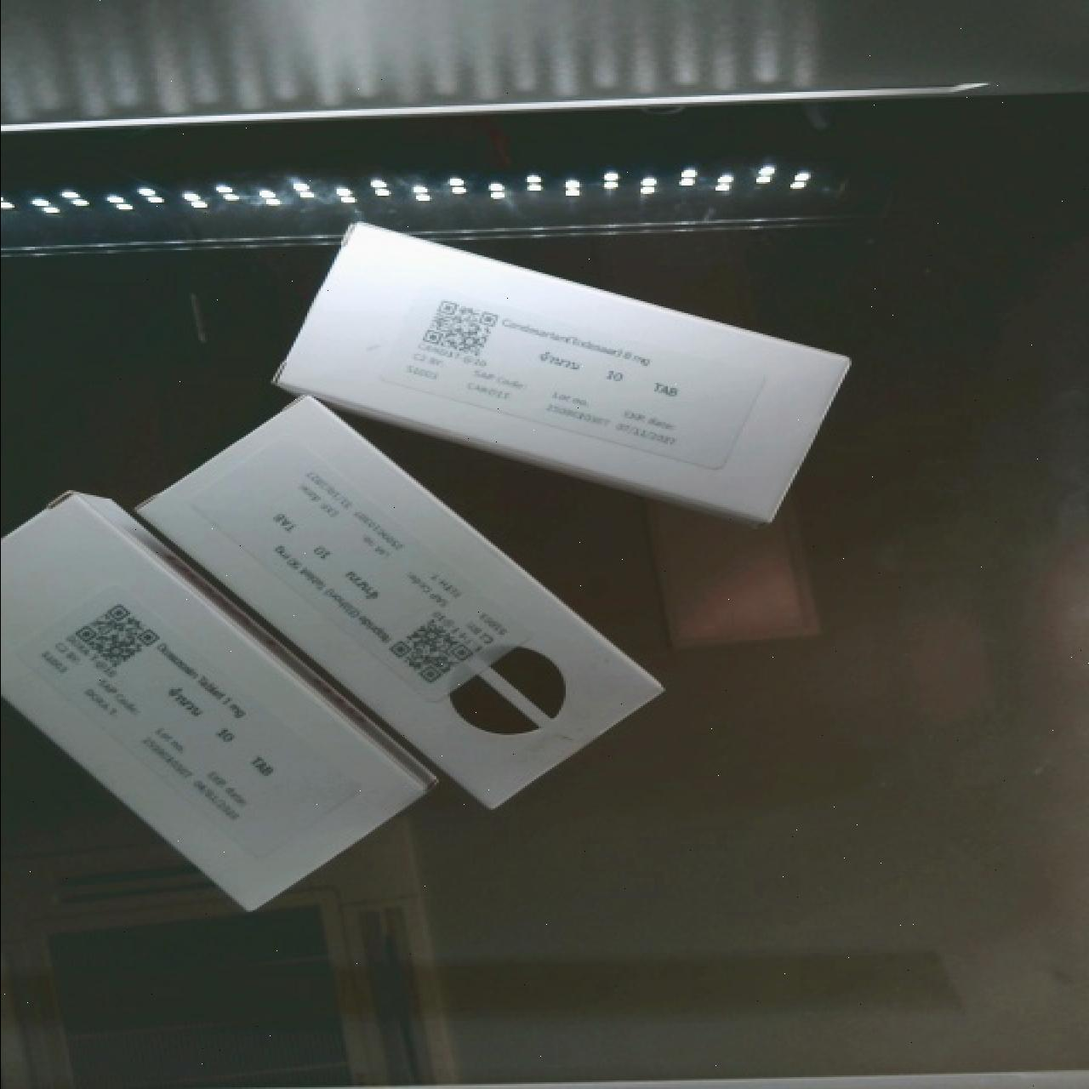qr_code: (50, 574, 187, 702), (367, 587, 495, 714), (400, 280, 519, 377)
